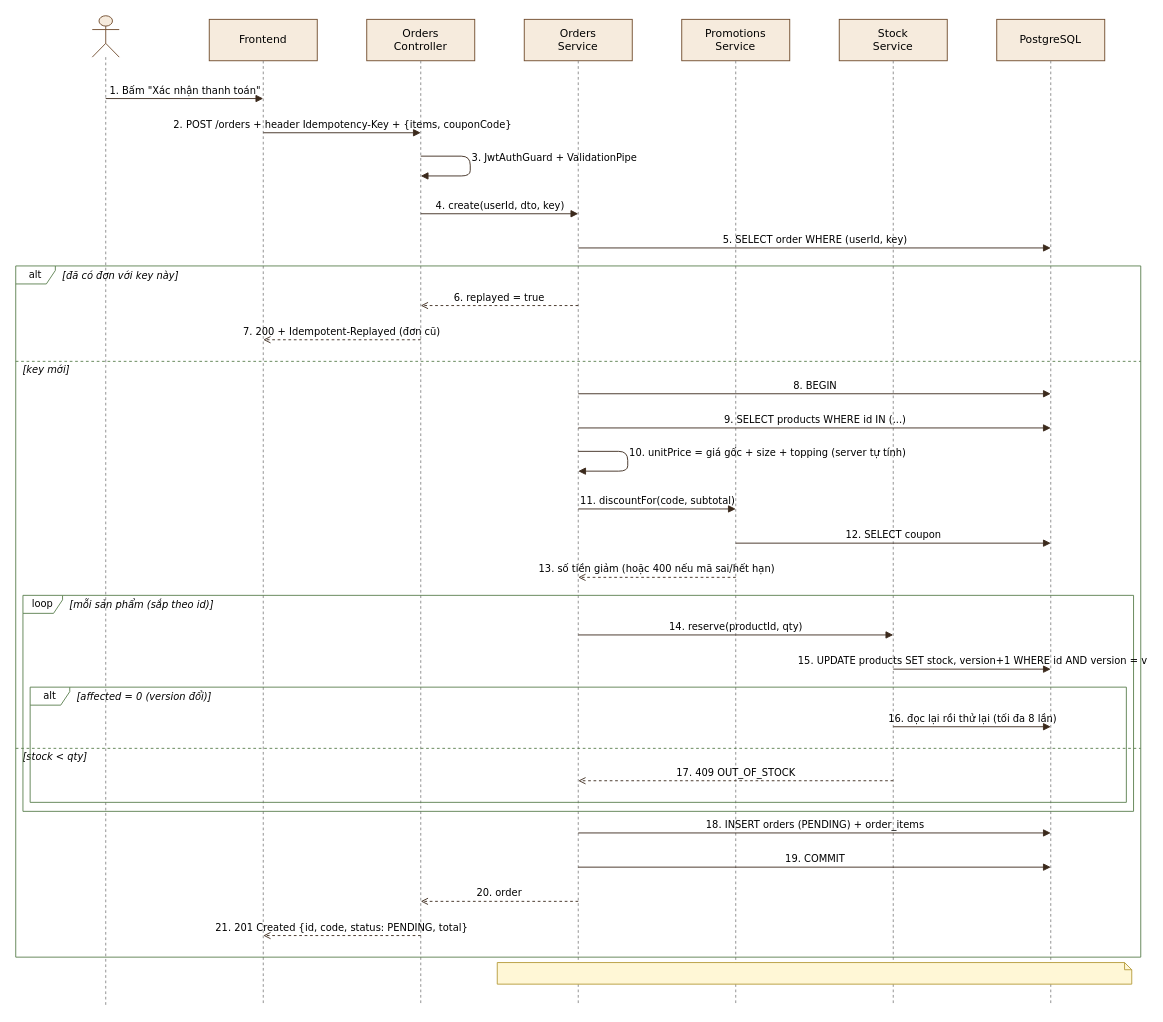
The diagram is 1163 pixels wide and 1022 high, and some of its shapes have lost their labels. The shapes that lost their labels are listed below. From the top down, each one's centre as x and y in pixels, then its label:
At pixel 105 36: "Khách hàng".
At pixel 814 973: "Lỗi giữa chừng ⇒ ROLLBACK, kho không bị trừ".
